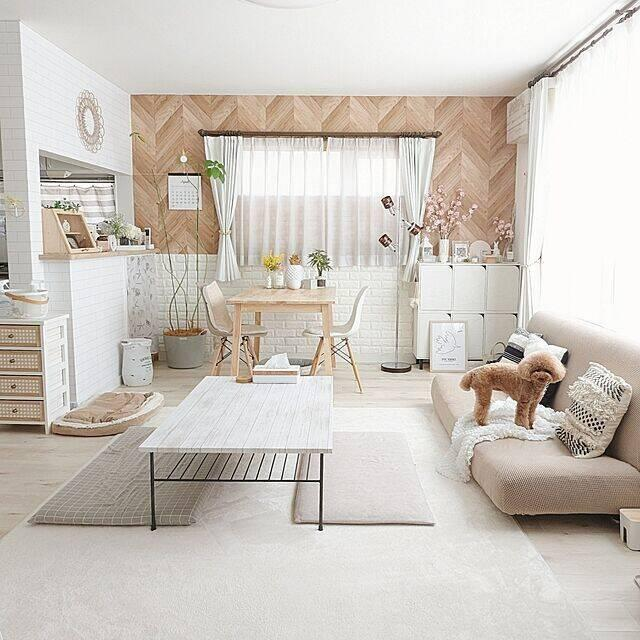white desk: (142, 364, 336, 542), (227, 272, 341, 365)
white sofa: (431, 316, 632, 492)
